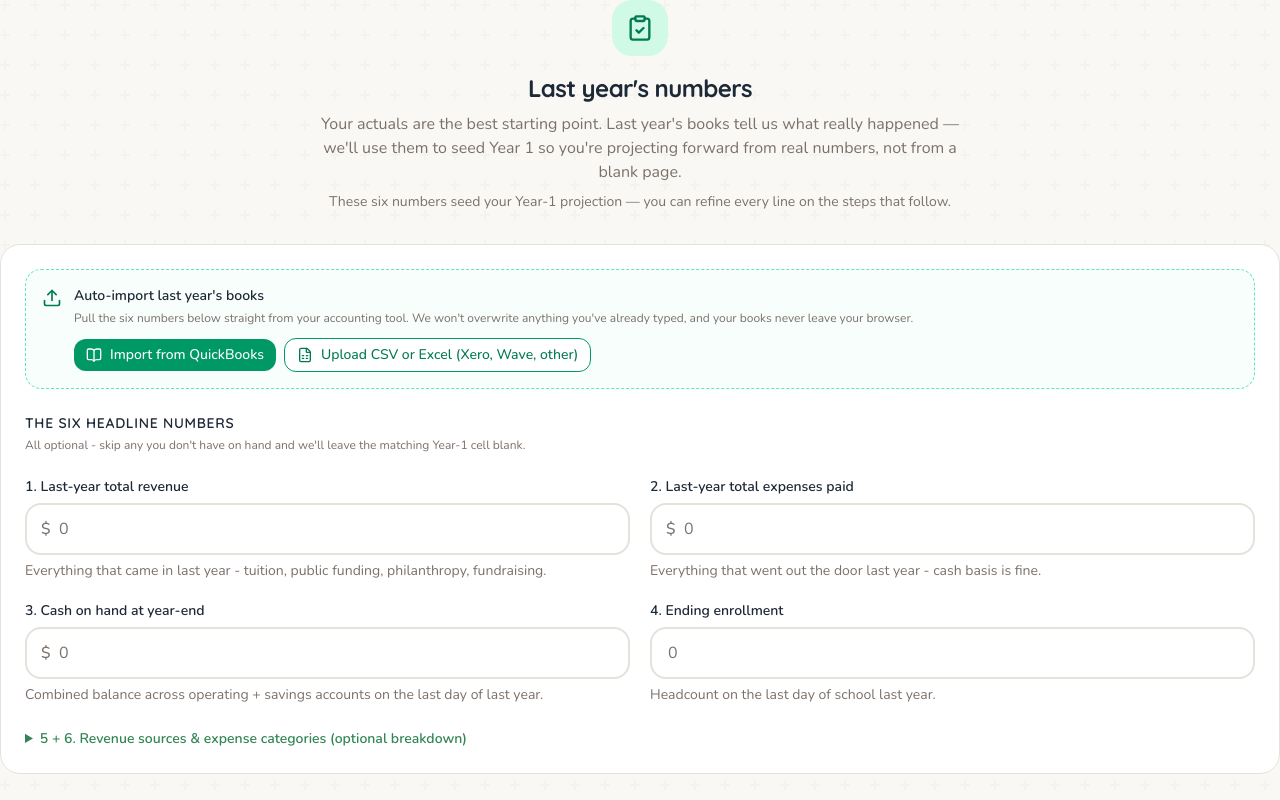
Scenario: ActualsIntakeStep — QuickBooks import (Task #708) › first click on the QuickBooks button reveals export instructions, second click opens the picker
Click the button with test id "actuals-intake-quickbooks-button" at (175, 355), box [74,339,276,371]
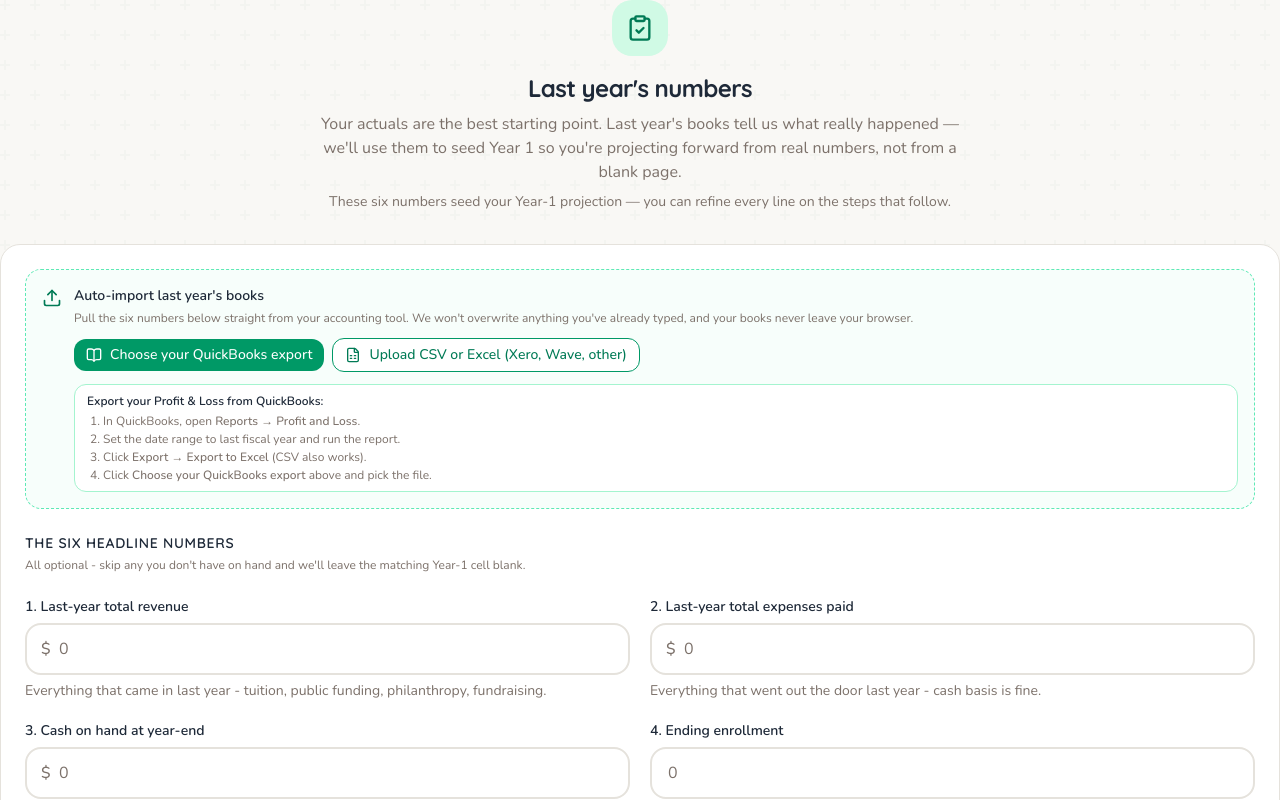
Expected: the element with test id "actuals-intake-quickbooks-help" shows "Reports → Profit and Loss", [215,413,357,429]
Expected: the button with test id "actuals-intake-quickbooks-button" reads "Choose your QuickBooks export", [74,339,324,371]
